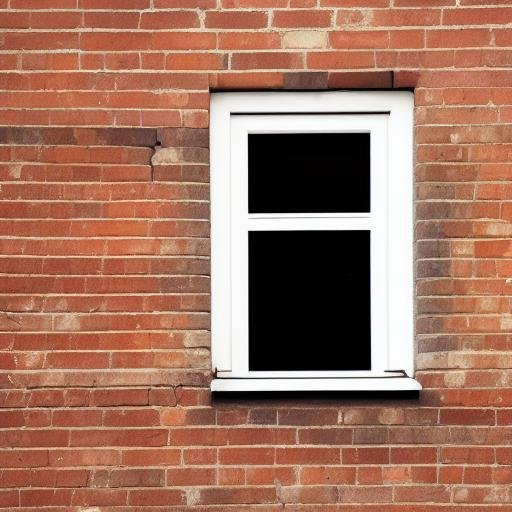Window: (208, 83, 426, 393)
